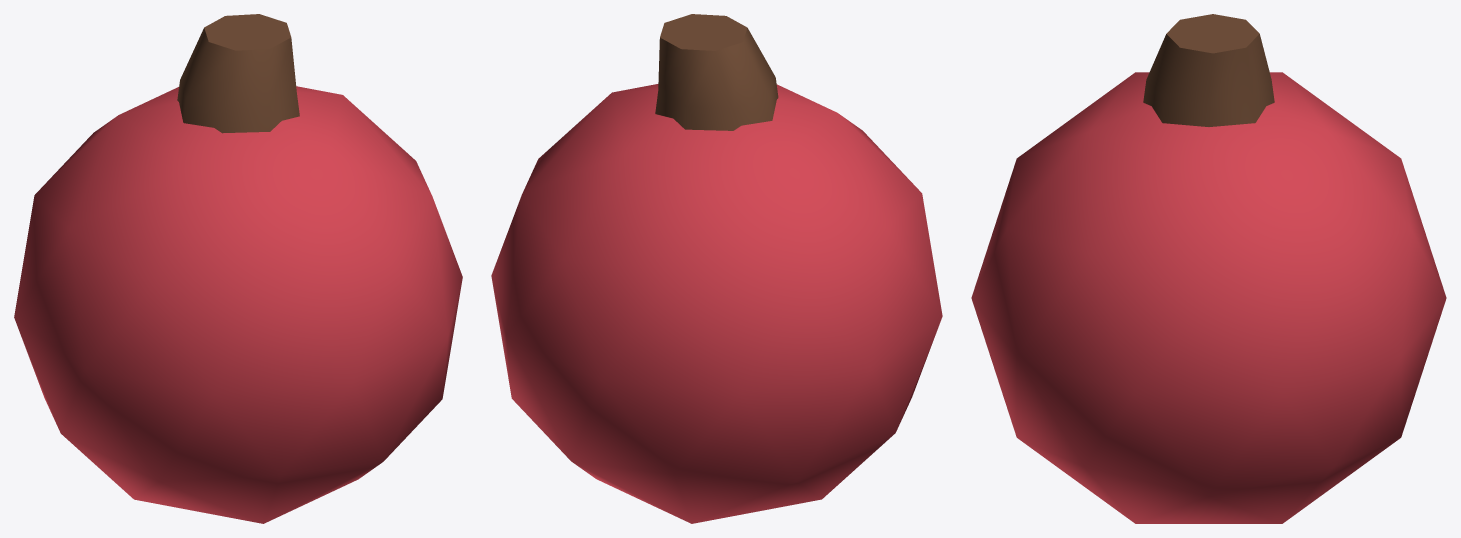
Rendered from Apple.fbx.
3 renders of one model, left to right at view 1: azimuth 30°, elevation 25°; view 2: azimuth 150°, elevation 25°; view 3: azimuth 270°, elevation 25°, orthographic. The views are drawn at different scales.
Visible parts, largest first — view 1: Apple; view 2: Apple; view 3: Apple.
Boxes of the visible parts, <box> form: Apple: <box>14,14,462,523</box>; Apple: <box>491,14,942,523</box>; Apple: <box>971,14,1446,523</box>.
Bounding box in the file's own units: 29.71 × 35.2 × 31.24.
